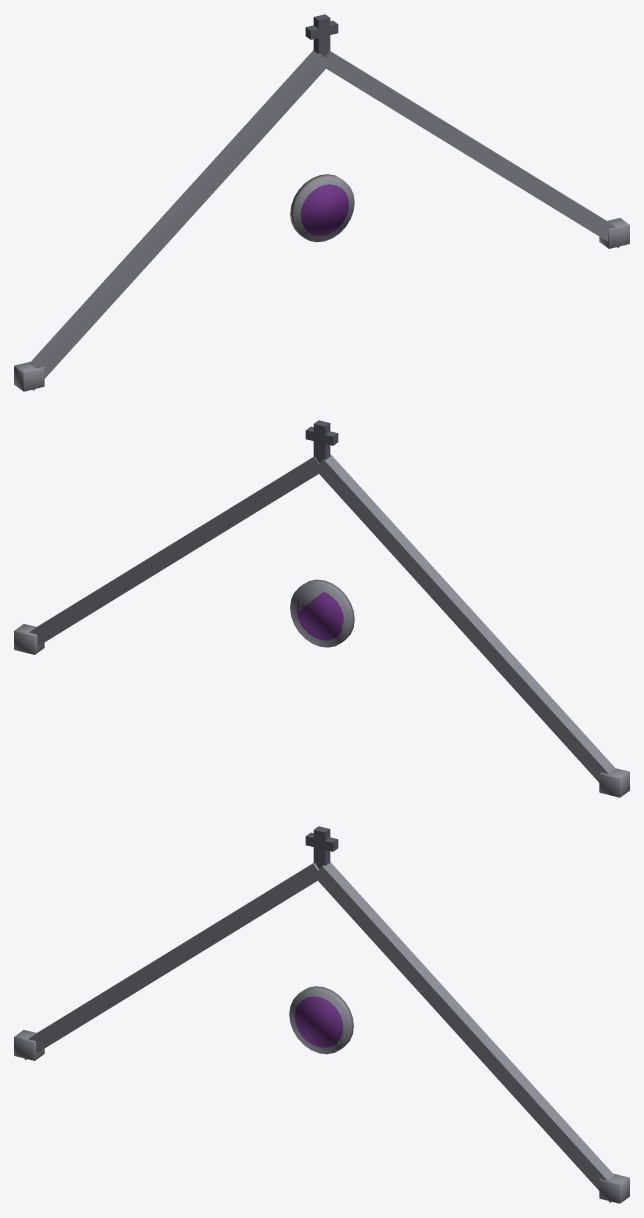
The model's file is kit_church_gable_w8.glb.
The picture shows the model from 3 angles, top to bottom: view 1: azimuth 30°, elevation 25°; view 2: azimuth 150°, elevation 25°; view 3: azimuth 330°, elevation 25°; orthographic projection.
Parts seen in each view (by area): view 1: kit_church_gable_w8; view 2: kit_church_gable_w8; view 3: kit_church_gable_w8.
Part boxes in pixels (<box>): kit_church_gable_w8: <box>14,14,629,391</box>; kit_church_gable_w8: <box>14,420,629,797</box>; kit_church_gable_w8: <box>14,826,629,1203</box>.
Bounding box in the file's own units: 8.42 × 3.97 × 0.24.
